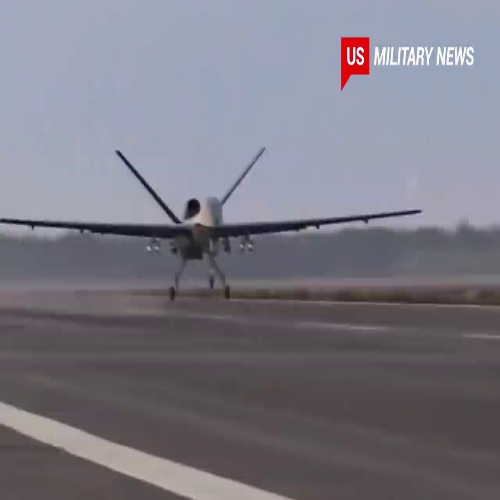uav: (1, 146, 422, 302)
